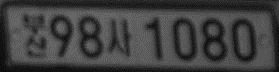0: (231, 17, 257, 62), (171, 17, 198, 60)
1: (141, 16, 169, 59)
8: (201, 17, 228, 63), (77, 14, 103, 58)
9: (49, 13, 74, 57)
부산_V: (22, 12, 49, 58)
사: (107, 18, 133, 56)
